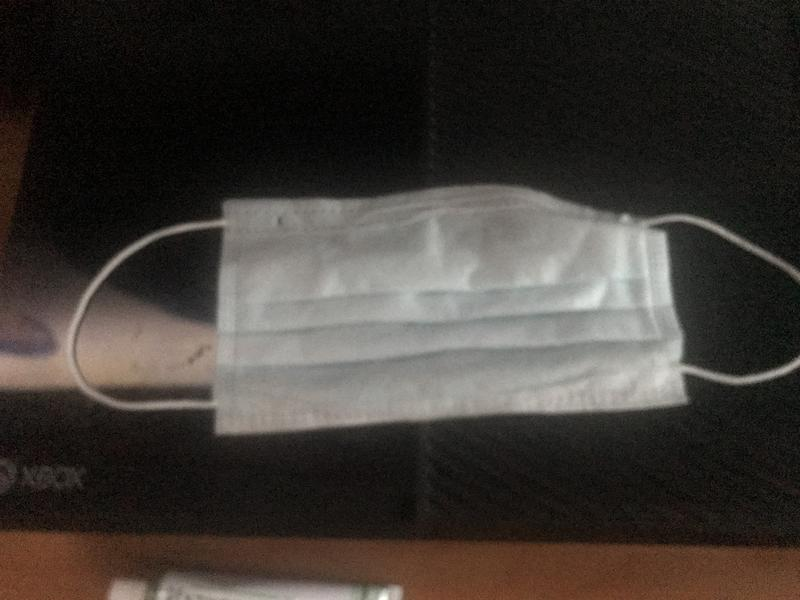medical_mask: (69, 189, 800, 430)
